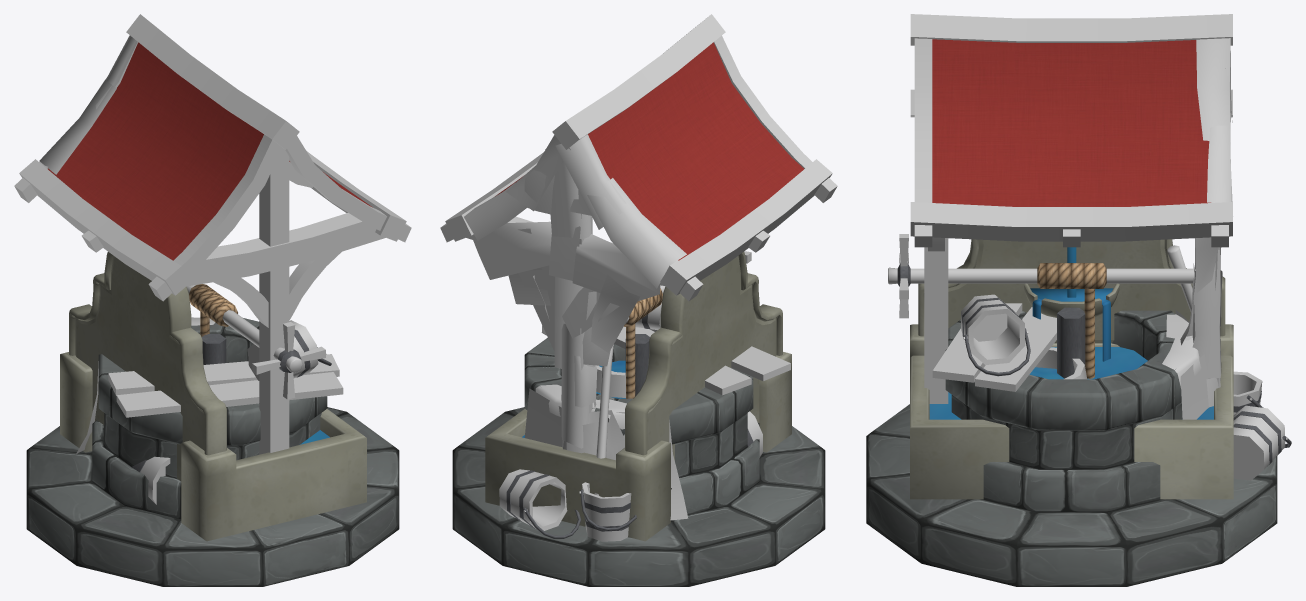
The model's file is water_source.fbx.
3 views of the same model, side by side, from view 1: azimuth 30°, elevation 25°; view 2: azimuth 150°, elevation 25°; view 3: azimuth 270°, elevation 25° (orthographic). The views are drawn at different scales.
Parts seen in each view (by area): view 1: cover, bricks, basin, back, LOD_012.7, barrel, LOD_23.6; view 2: LOD_012.7, bricks, cover, back, basin, LOD_23.6, barrel.009; view 3: cover, bricks, LOD_012.7, basin, back, water.003, LOD_23.6, water.002, bowl, barrel.009.
Part boxes in pixels (<box>): cover: <box>14,14,411,454</box>; bricks: <box>26,318,399,586</box>; basin: <box>60,352,366,541</box>; back: <box>69,252,226,481</box>; LOD_012.7: <box>39,35,343,453</box>; barrel: <box>132,456,170,504</box>; LOD_23.6: <box>202,334,226,364</box>; LOD_012.7: <box>464,135,790,541</box>; bricks: <box>452,337,825,586</box>; cover: <box>440,14,837,448</box>; back: <box>625,252,782,460</box>; basin: <box>485,352,791,541</box>; LOD_23.6: <box>625,334,649,395</box>; barrel.009: <box>596,365,625,397</box>; cover: <box>910,14,1232,403</box>; bricks: <box>866,310,1277,586</box>; LOD_012.7: <box>888,38,1291,480</box>; basin: <box>910,324,1233,499</box>; back: <box>918,239,1225,346</box>; water.003: <box>929,247,1213,419</box>; LOD_23.6: <box>1057,307,1085,378</box>; water.002: <box>1051,347,1147,379</box>; bowl: <box>1024,283,1119,317</box>; barrel.009: <box>1035,347,1086,379</box>.
Size of what is drawn, in the model's own units: 341 by 430 by 329.
